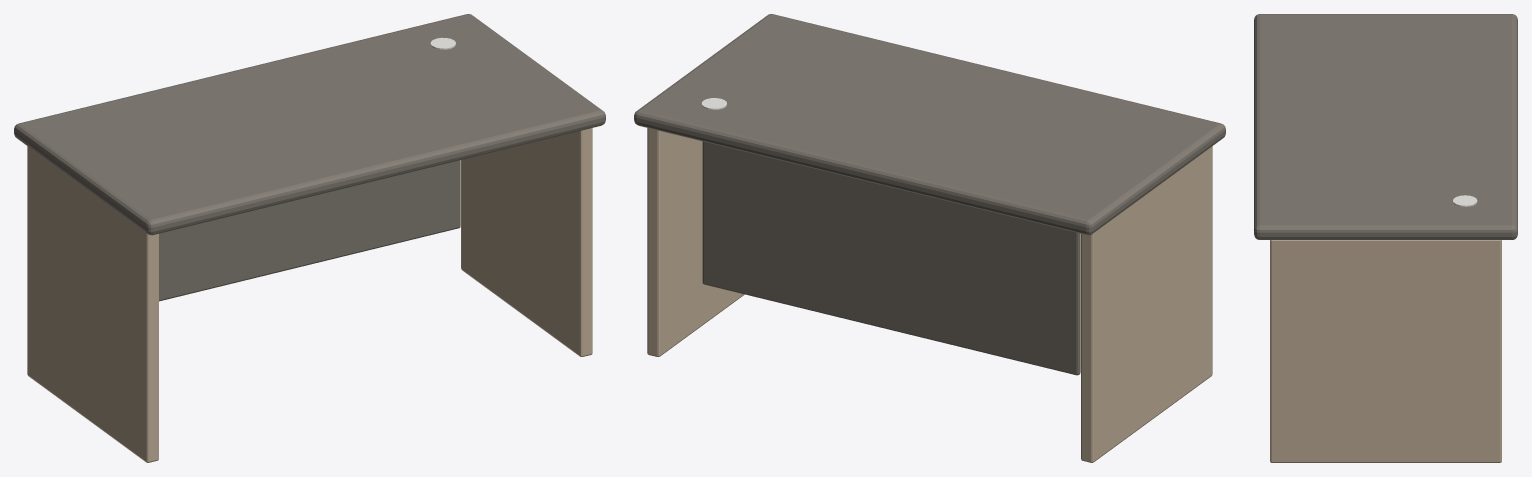
Rendered from isometric_workstation_variations_guide_23.glb.
3 renders of one model, left to right at view 1: azimuth 30°, elevation 25°; view 2: azimuth 150°, elevation 25°; view 3: azimuth 270°, elevation 25°, orthographic. The views are drawn at different scales.
Parts seen in each view (by area): view 1: Cube; view 2: Cube; view 3: Cube.
Boxes of the visible parts, left/top/right/bottom form: Cube: left=14, top=14, right=605, bottom=462; Cube: left=634, top=14, right=1225, bottom=462; Cube: left=1254, top=14, right=1517, bottom=462.
Bounding box in the file's own units: 1.45 × 0.754 × 0.75.
